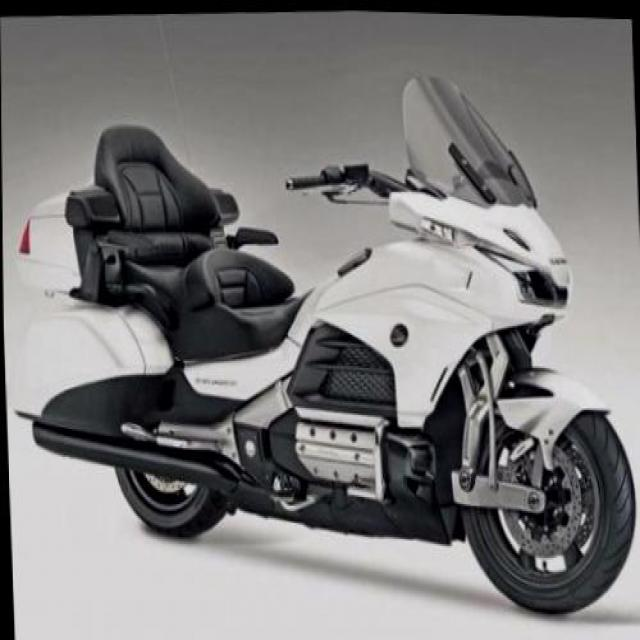Gold Wing: (0, 47, 639, 637)
